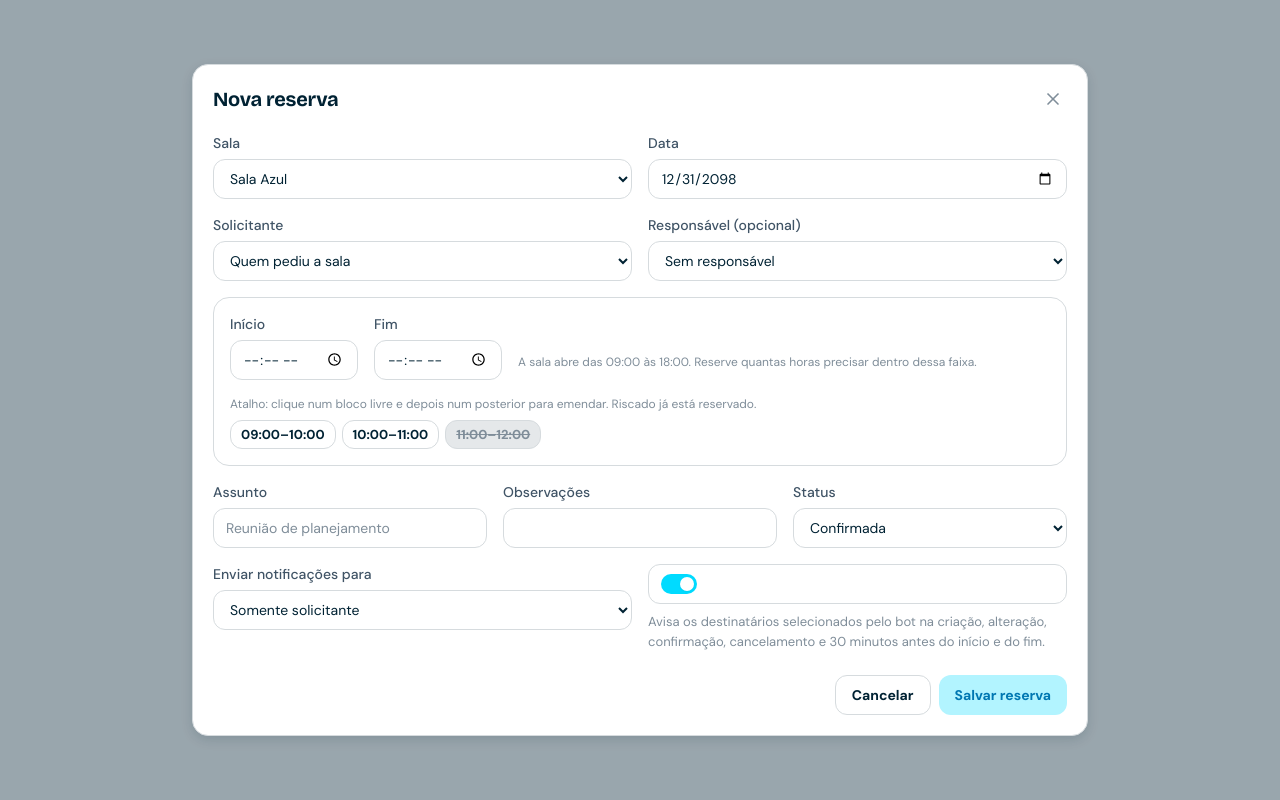
Test case: ReservaDialog › usa o bloco clicado como atalho para preencher o horário
Click the button "09:00–10:00" at point(283, 435), box [230, 420, 336, 449]
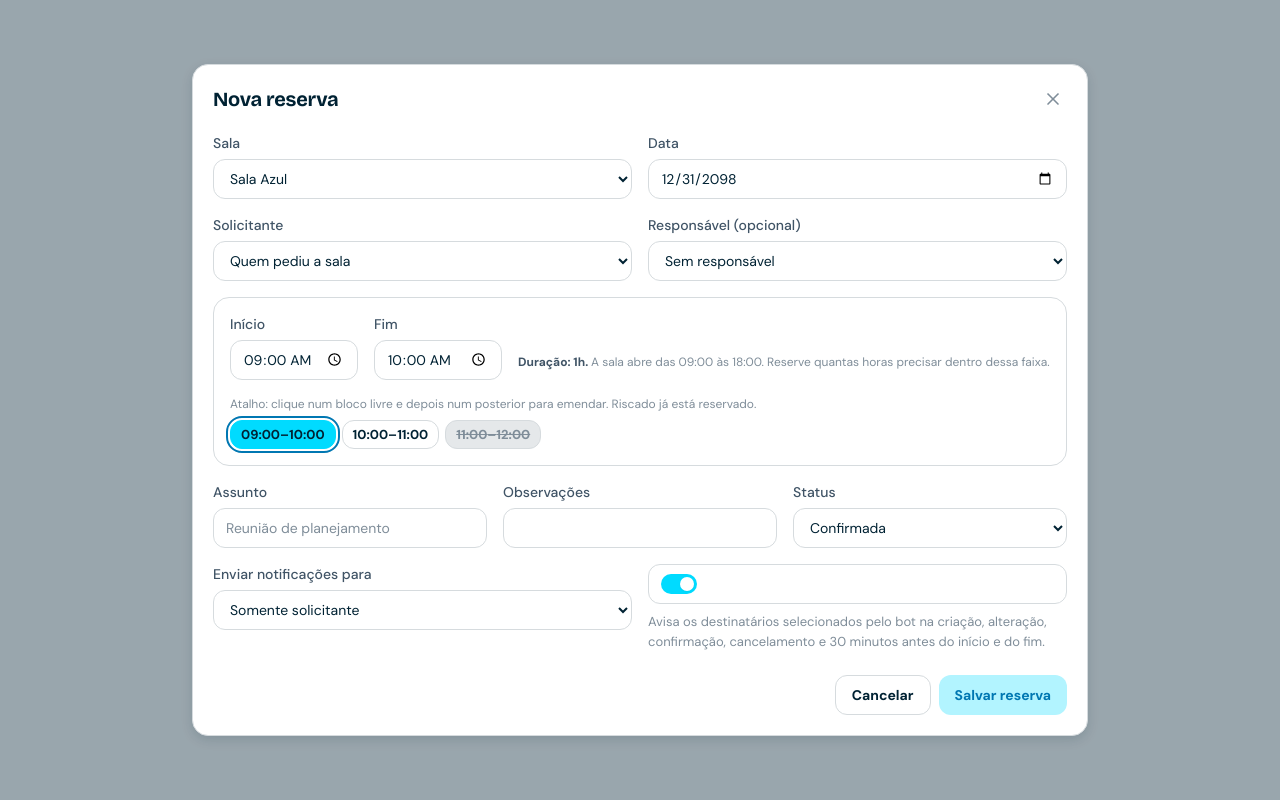
Check: the time field labelled "Início" holds "09:00", box [230, 340, 358, 380]
Check: the time field labelled "Fim" holds "10:00", box [374, 340, 502, 380]
